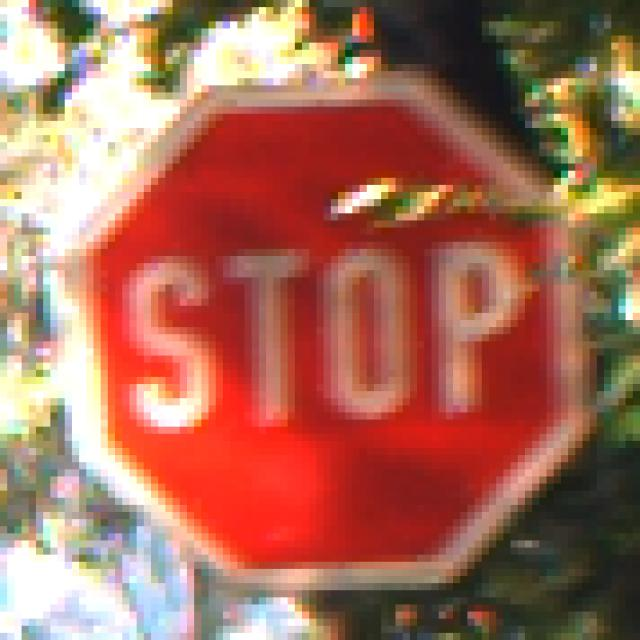STOP: (59, 58, 584, 584)
